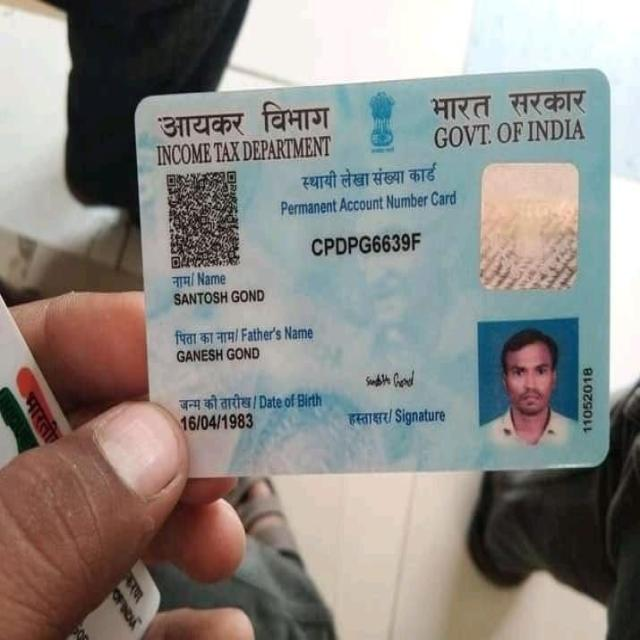pan_card: (136, 68, 607, 490)
